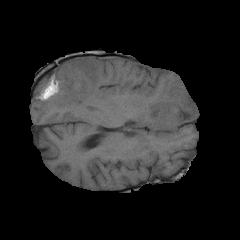glioma: (35, 57, 198, 130)
